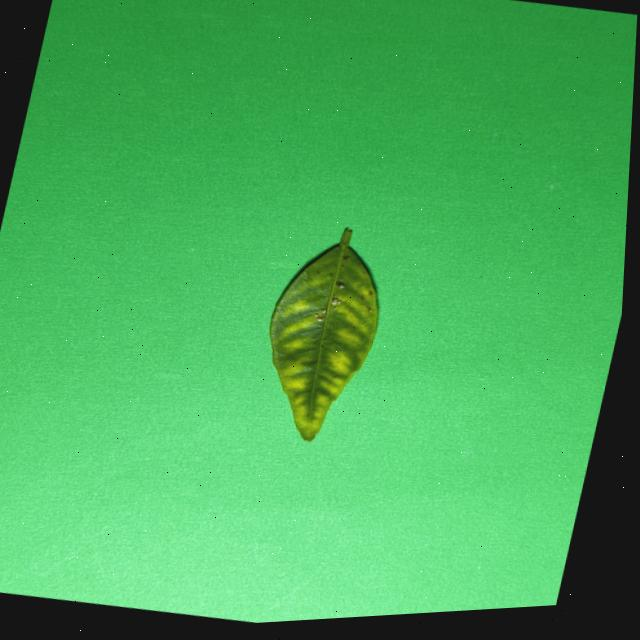greening: (269, 228, 376, 439)
